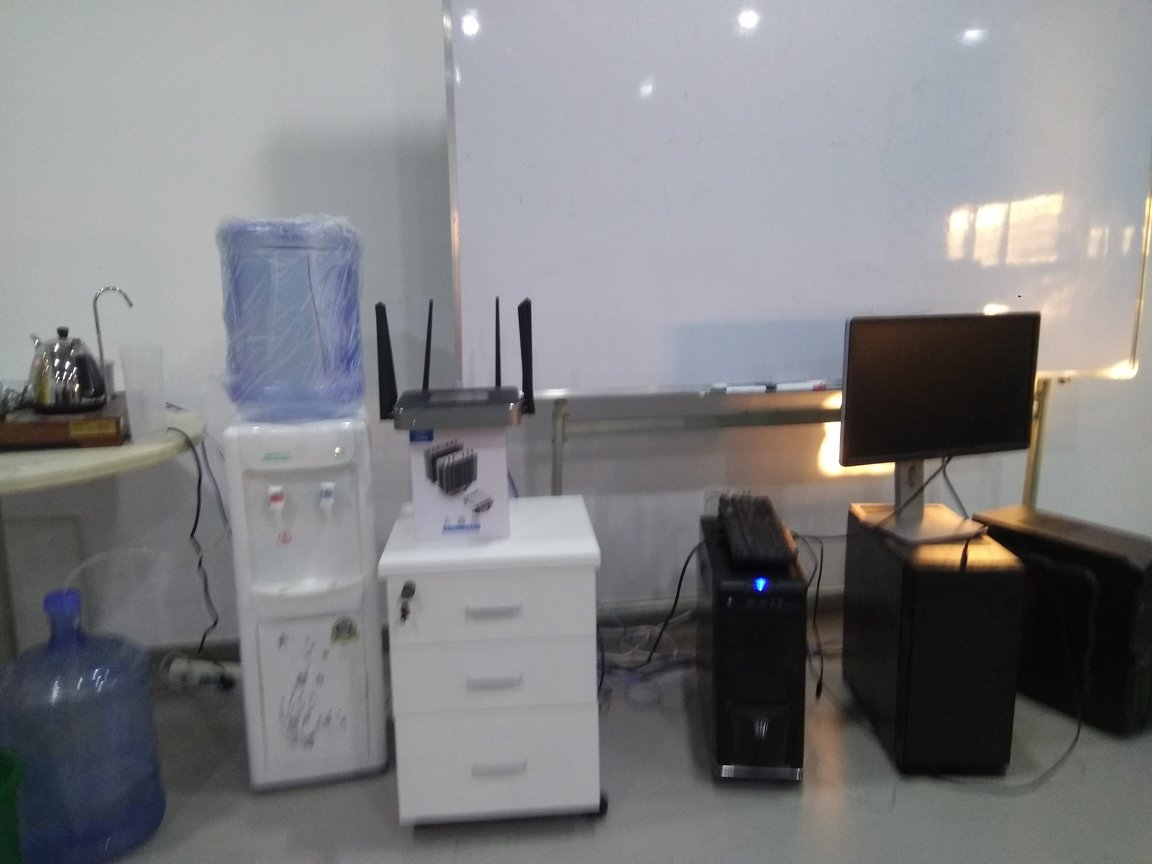computer: (844, 498, 1025, 795), (980, 504, 1152, 751), (696, 518, 820, 800)
drawer chest: (379, 490, 613, 821)
monitor: (840, 306, 1054, 556)
scuttlebutt: (2, 588, 166, 863), (199, 209, 380, 423)
water dispenser: (220, 412, 393, 797)
